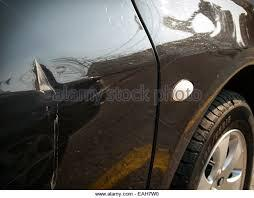doorouter-dent: (3, 24, 160, 192)
